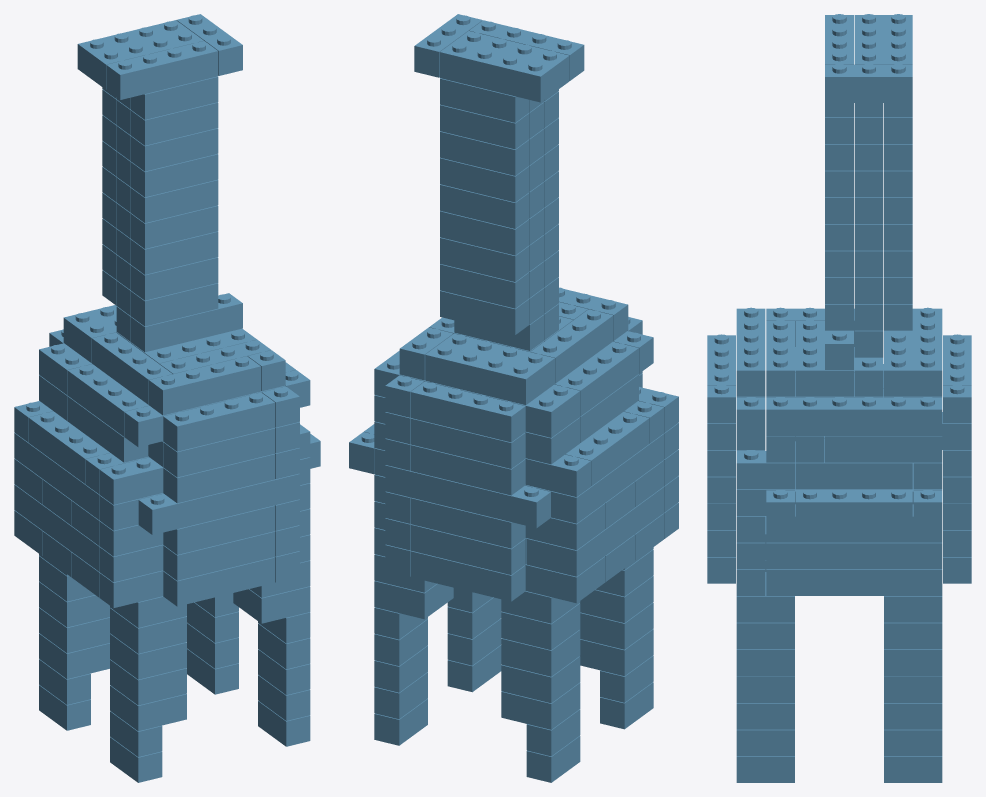
The model's file is 260_vessel_L5.glb.
3 renders of one model, left to right at view 1: azimuth 30°, elevation 25°; view 2: azimuth 150°, elevation 25°; view 3: azimuth 270°, elevation 25°, orthographic. The views are drawn at different scales.
Bounding box in the file's own units: 8.98 × 26.13 × 8.98.
